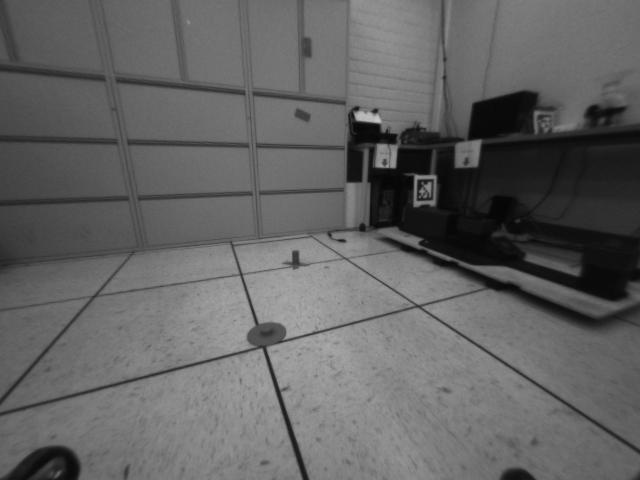X: (282, 248, 310, 270)
